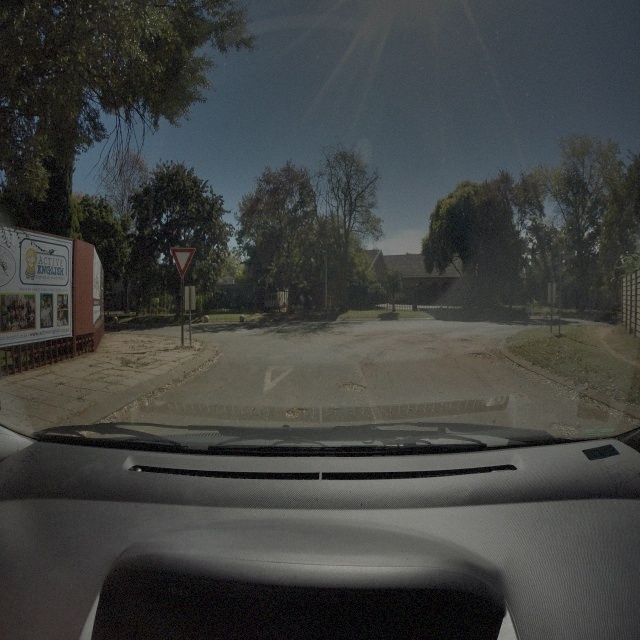pothole: (550, 419, 580, 438), (283, 406, 308, 420), (338, 383, 366, 395), (468, 349, 489, 360), (424, 344, 439, 354), (456, 338, 470, 344)
